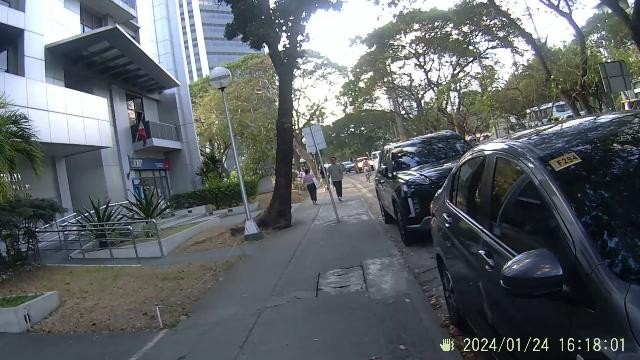car: (375, 138, 503, 250)
lamp_post: (203, 64, 263, 248)
street_sign: (298, 120, 352, 231)
tree: (243, 6, 313, 239)
